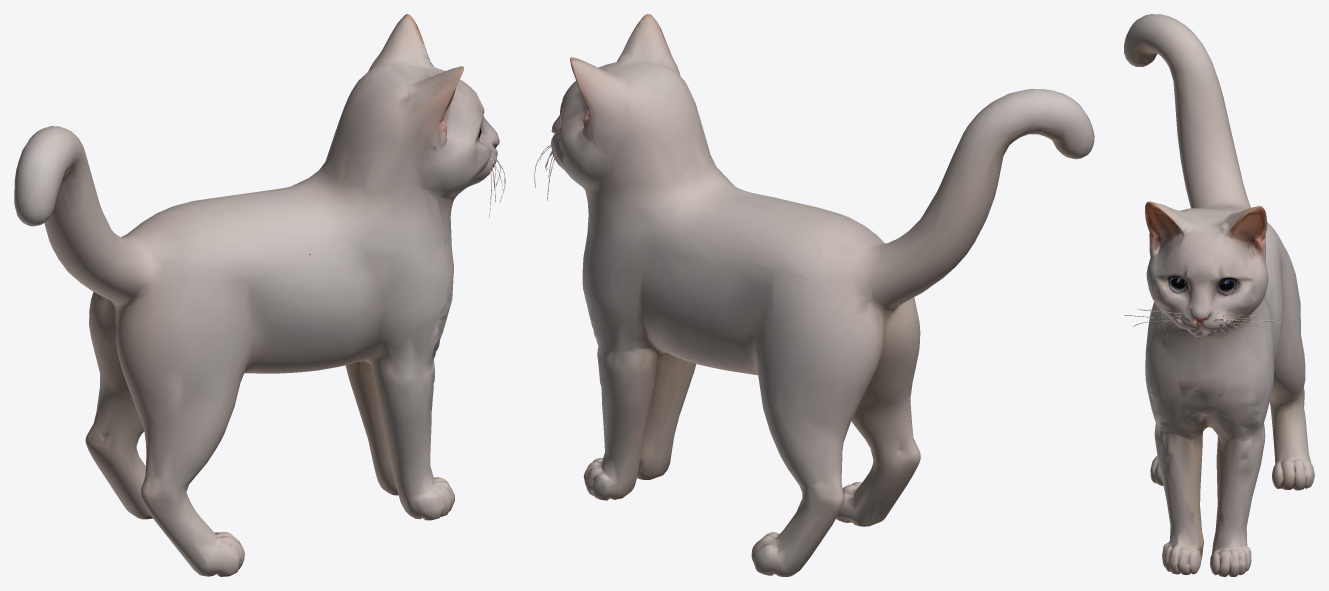
The model's file is SNOWCURL.glb.
3 renders of one model, left to right at view 1: azimuth 30°, elevation 25°; view 2: azimuth 150°, elevation 25°; view 3: azimuth 270°, elevation 25°, orthographic. The views are drawn at different scales.
Visible parts, largest first — view 1: material; view 2: material; view 3: material.
Boxes of the visible parts, box(x1,y1,x2,y2) form: material: box(14, 14, 505, 576); material: box(534, 14, 1094, 576); material: box(1124, 14, 1314, 576).
Bounding box in the file's own units: 1.12 × 0.999 × 0.439.
Materials: 1 (1 with a texture image).
